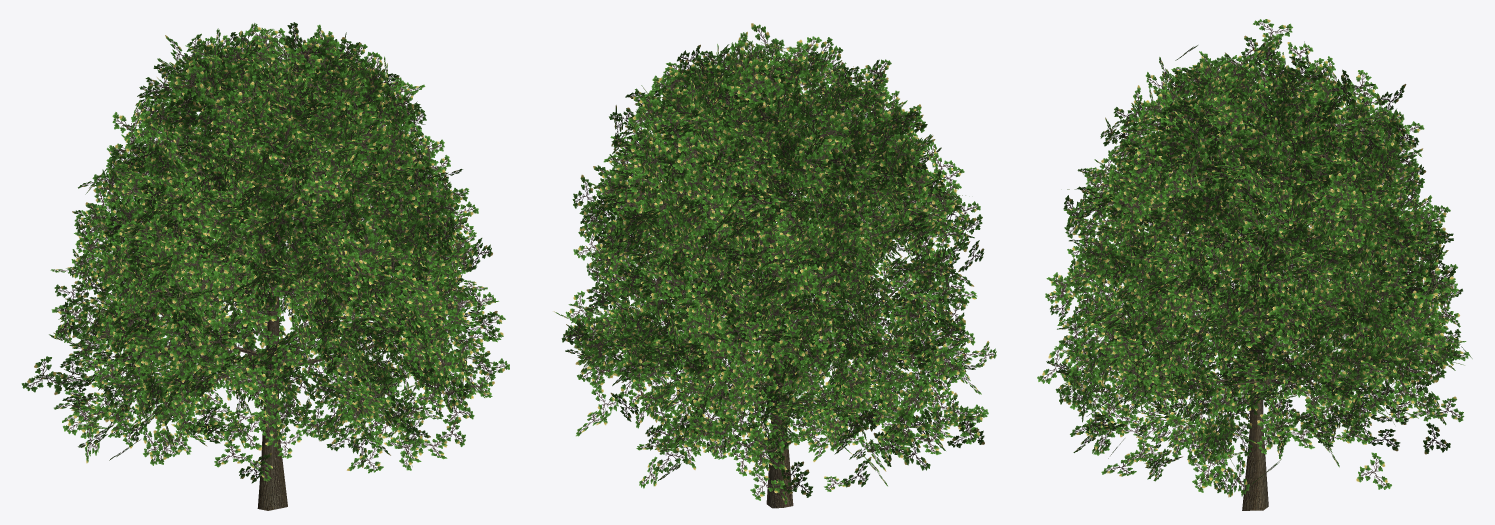
File: Tilia_Cordata_Spring_Adult.glb
3 views of the same model, side by side, from view 1: azimuth 30°, elevation 25°; view 2: azimuth 150°, elevation 25°; view 3: azimuth 270°, elevation 25° (orthographic). The views are drawn at different scales.
Visible parts, largest first — view 1: Tilia_Cordata_Spring_Adult__LOD3; view 2: Tilia_Cordata_Spring_Adult__LOD3; view 3: Tilia_Cordata_Spring_Adult__LOD3.
Part boxes in pixels (x1,y1,x2,y2): Tilia_Cordata_Spring_Adult__LOD3: [21, 22, 509, 510]; Tilia_Cordata_Spring_Adult__LOD3: [553, 23, 996, 508]; Tilia_Cordata_Spring_Adult__LOD3: [1037, 19, 1472, 510].
Size of the model in its own units: 24.45 by 26.23 by 23.11.
2 materials, 2 textured.
